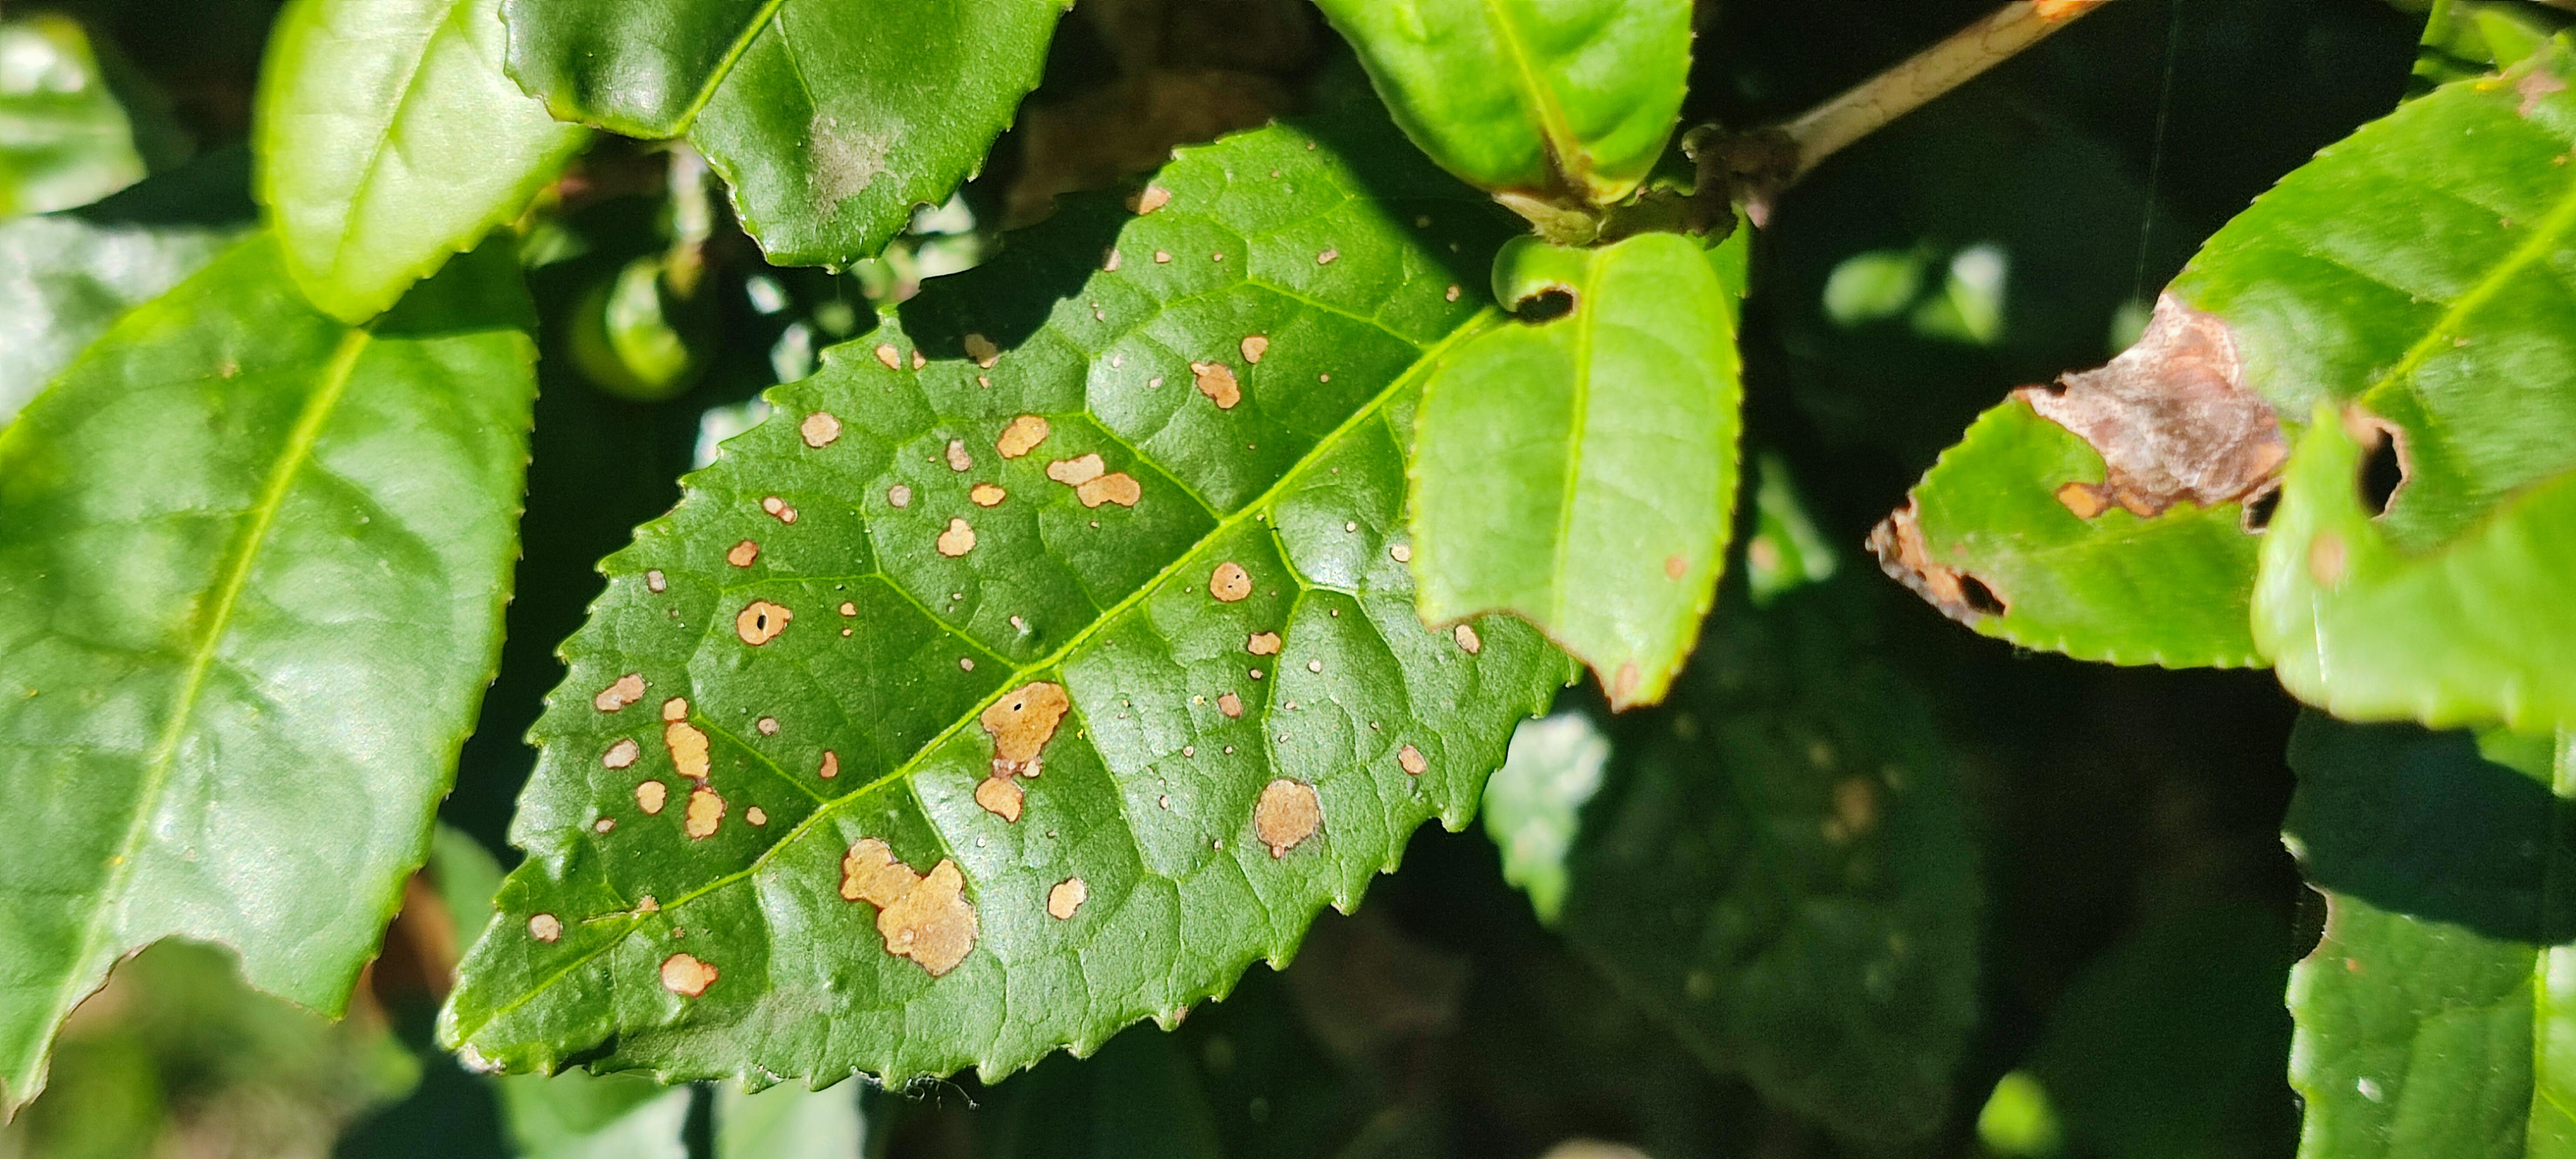chihuo_high: (1405, 231, 1748, 719)
chihuo_low: (0, 227, 542, 1131)
tanju_high: (429, 117, 1582, 1102), (1853, 30, 2571, 675)
